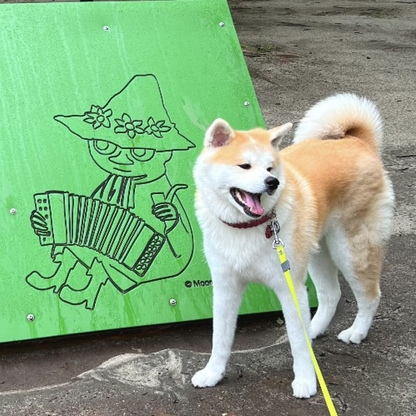akita: (187, 88, 399, 401)
